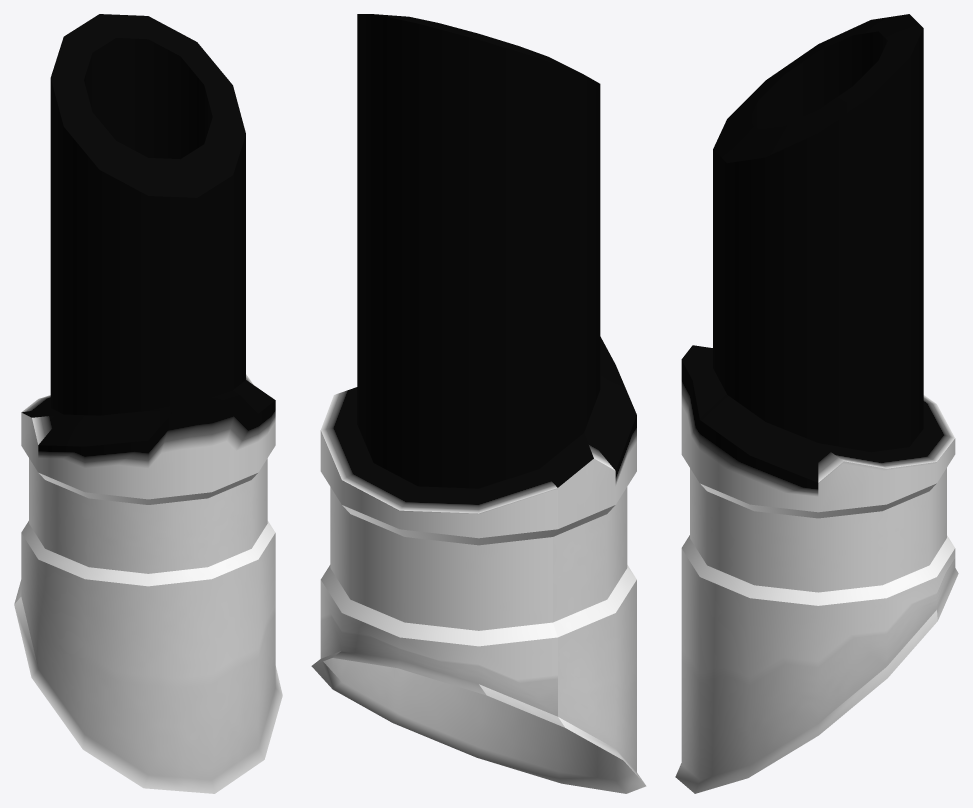
The model's file is WF_small_chimney.fbx.
3 renders of one model, left to right at view 1: azimuth 30°, elevation 25°; view 2: azimuth 150°, elevation 25°; view 3: azimuth 270°, elevation 25°, orthographic. The views are drawn at different scales.
Visible parts, largest first — view 1: WF_small_chimney; view 2: WF_small_chimney; view 3: WF_small_chimney.
Part boxes in pixels (x1,y1,x2,y2): WF_small_chimney: (14,14,282,793); WF_small_chimney: (311,14,646,793); WF_small_chimney: (675,14,958,793).
Bounding box in the file's own units: 31.85 × 90.56 × 31.05.
